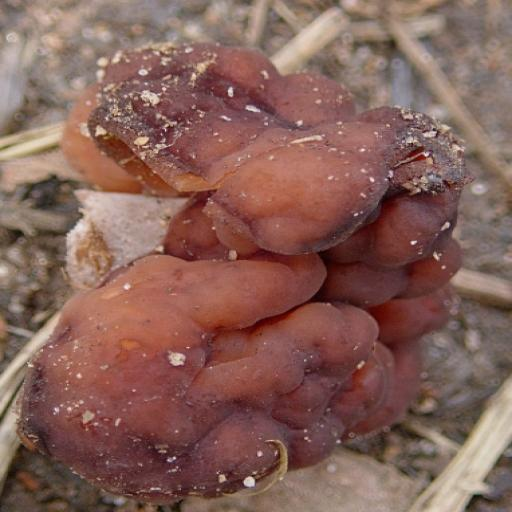False Morel: (18, 31, 477, 512)
